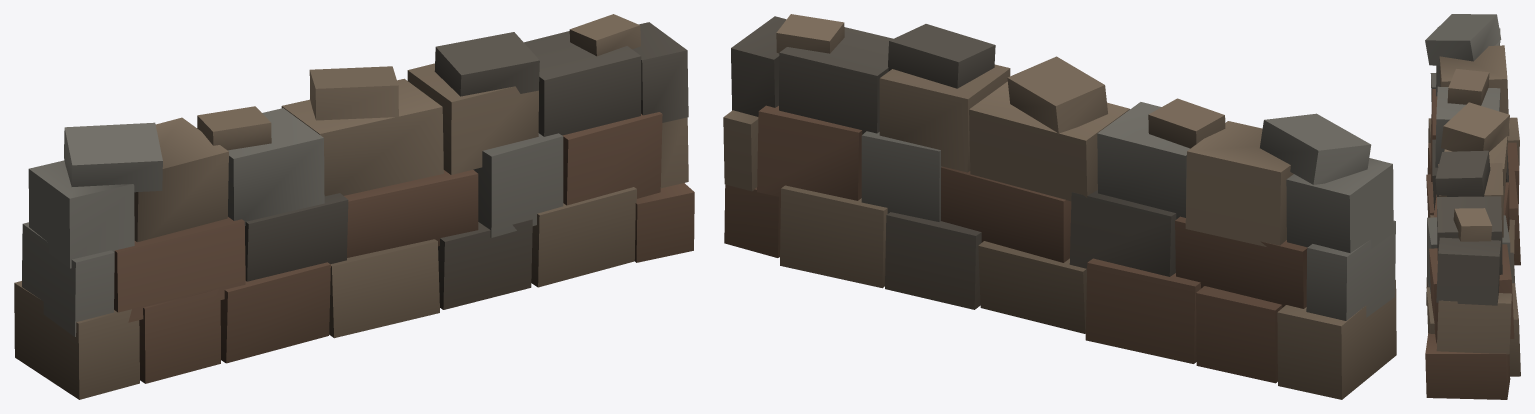
The model's file is casa_tapia_pirca_c.glb.
3 views of the same model, side by side, from view 1: azimuth 30°, elevation 25°; view 2: azimuth 150°, elevation 25°; view 3: azimuth 270°, elevation 25° (orthographic). The views are drawn at different scales.
Parts seen in each view (by area): view 1: casa_tapia_pirca_c; view 2: casa_tapia_pirca_c; view 3: casa_tapia_pirca_c.
Part boxes in pixels (x1,y1,x2,y2): casa_tapia_pirca_c: [14, 14, 694, 399]; casa_tapia_pirca_c: [723, 14, 1396, 399]; casa_tapia_pirca_c: [1425, 14, 1520, 399].
Bounding box in the file's own units: 4.01 × 1.42 × 0.7165.
